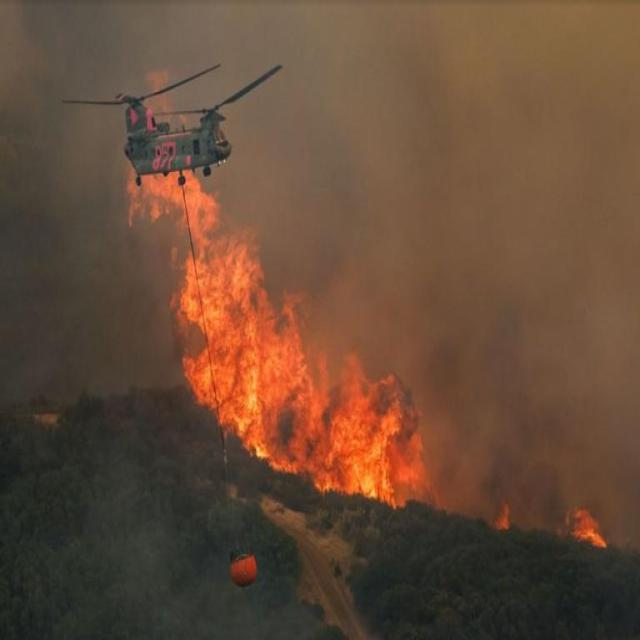fire: (156, 185, 272, 424), (283, 371, 409, 493)
smoke: (288, 16, 640, 347), (421, 352, 634, 500)
